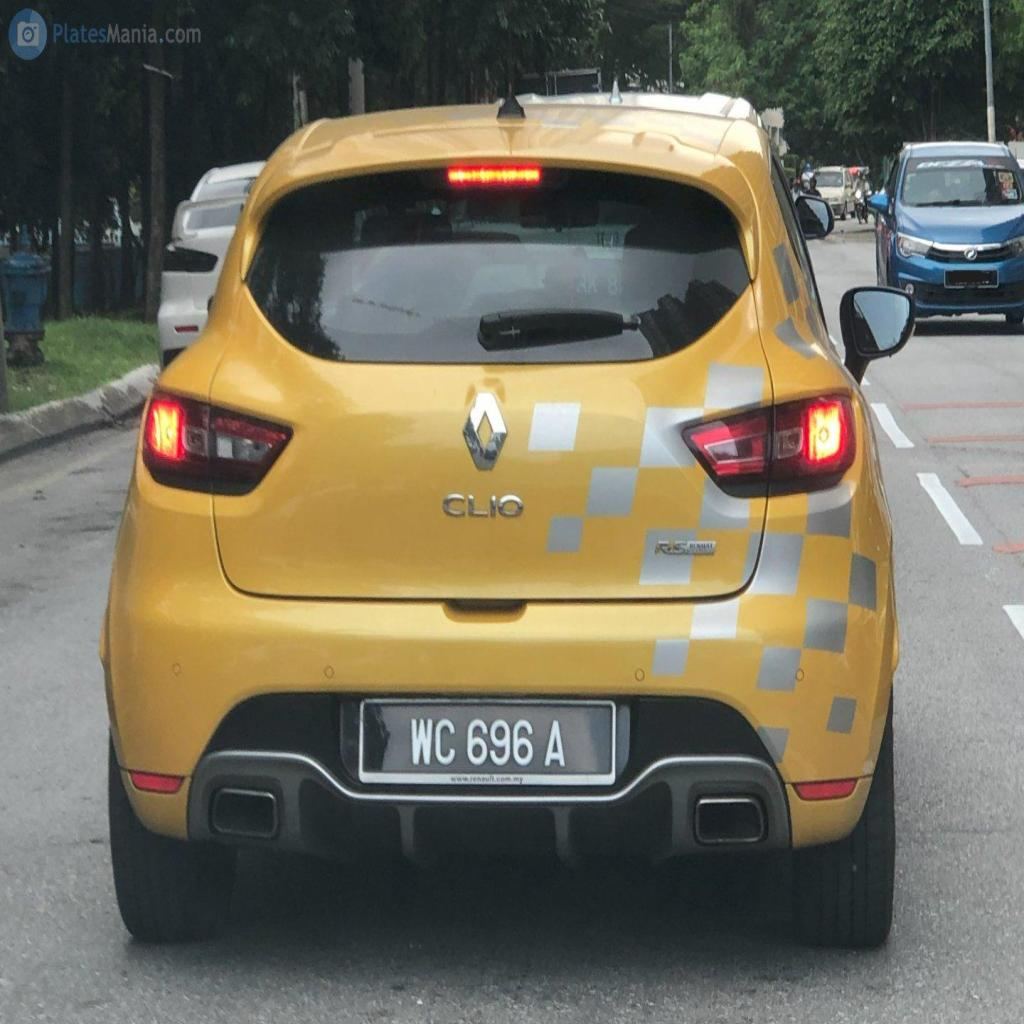car: (100, 86, 912, 941)
car plate: (358, 699, 614, 785)
